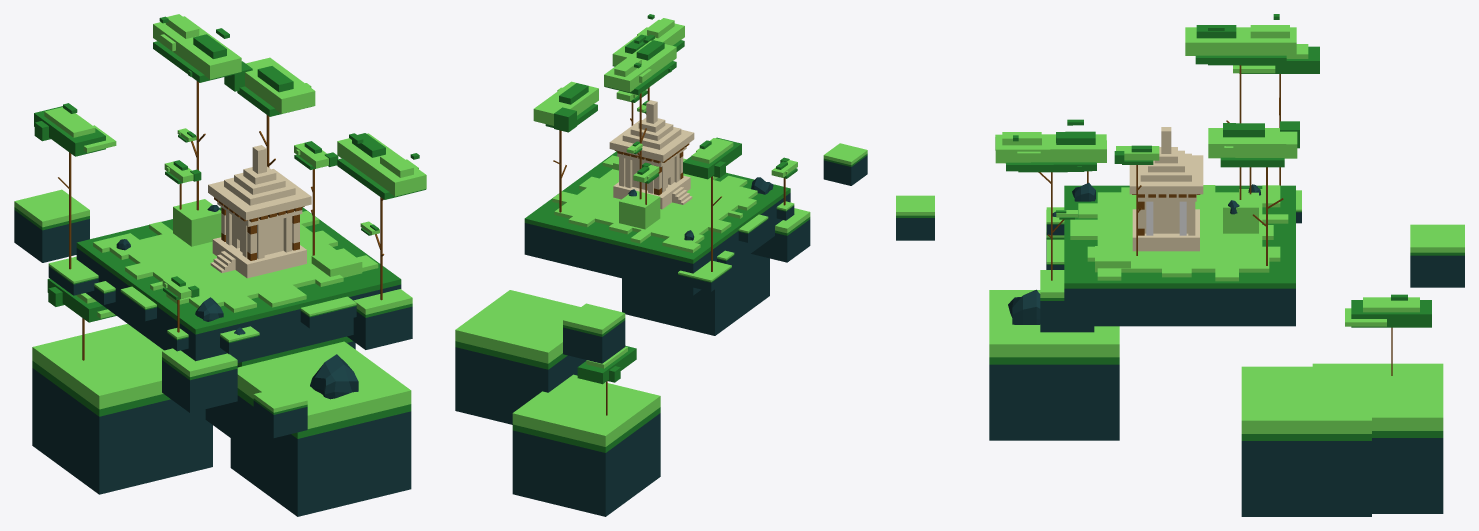
The model's file is forestRuins.glb.
3 views of the same model, side by side, from view 1: azimuth 30°, elevation 25°; view 2: azimuth 150°, elevation 25°; view 3: azimuth 270°, elevation 25° (orthographic). The views are drawn at different scales.
Visible parts, largest first — view 1: Cube.113, Cube.110, Cube, Cube.001, Cube.082, Cube.112, Cube.111, Cube.008, Cube.114, Cube.058, Cube.070, Cube.023 (+19 smaller); view 2: Cube.113, Cube.009, Cube, Cube.001, Cube.110, Cube.082, Cube.112, Cube.111, Cube.114, Cube.023, Cube.031, Cube.070 (+7 smaller); view 3: Cube.009, Cube, Cube.110, Cube.113, Cube.001, Cube.082, Cube.112, Cube.023, Cube.070, Cube.058, Cube.114, Cube.008 (+9 smaller).
Boxes of the visible parts, x1,y1,x2,y2 form: Cube.113: (32,324,212,494); Cube.110: (230,341,411,516); Cube: (76,207,401,362); Cube.001: (93,211,378,312); Cube.082: (208,145,311,278); Cube.112: (14,189,89,262); Cube.111: (162,348,237,412); Cube.008: (347,289,412,349); Cube.114: (253,386,307,437); Cube.058: (337,133,426,196); Cube.070: (245,57,315,113); Cube.023: (153,16,241,79); Cube.113: (512,374,660,516); Cube.009: (455,290,586,424); Cube: (524,151,790,295); Cube.001: (552,155,757,252); Cube.110: (622,254,769,335); Cube.082: (609,100,694,209); Cube.112: (563,303,625,363); Cube.111: (751,208,810,262); Cube.114: (823,143,867,185); Cube.023: (604,40,676,92); Cube.031: (619,191,660,229); Cube.070: (533,81,598,125); Cube.009: (1241,366,1371,516); Cube: (1064,185,1295,326); Cube.110: (989,290,1119,440); Cube.113: (1312,363,1443,513); Cube.001: (1070,185,1288,281); Cube.082: (1129,127,1203,251); Cube.112: (1410,224,1464,287); Cube.023: (1185,27,1296,55); Cube.070: (1208,128,1297,158); Cube.058: (995,134,1106,163); Cube.114: (896,195,934,240); Cube.008: (1040,270,1094,332).
Bounding box in the file's own units: 46.42 × 73.92 × 81.26.
